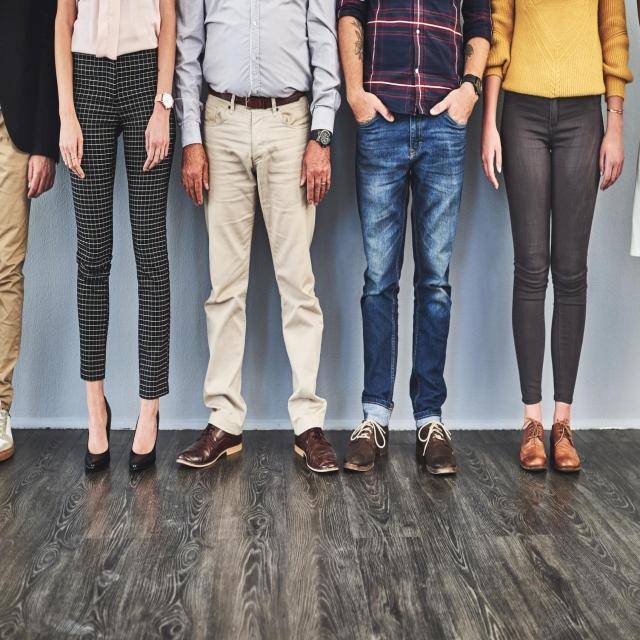person: (483, 3, 633, 512), (186, 3, 343, 489), (331, 4, 472, 493), (56, 3, 186, 485)
